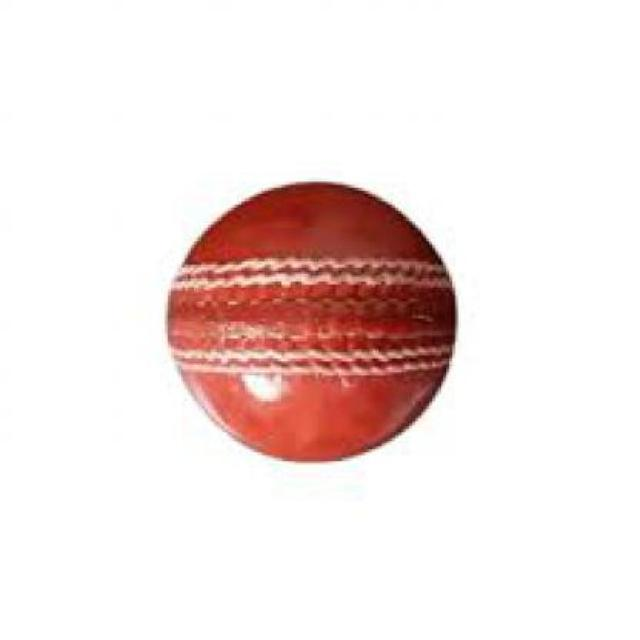ball: (133, 125, 488, 496)
